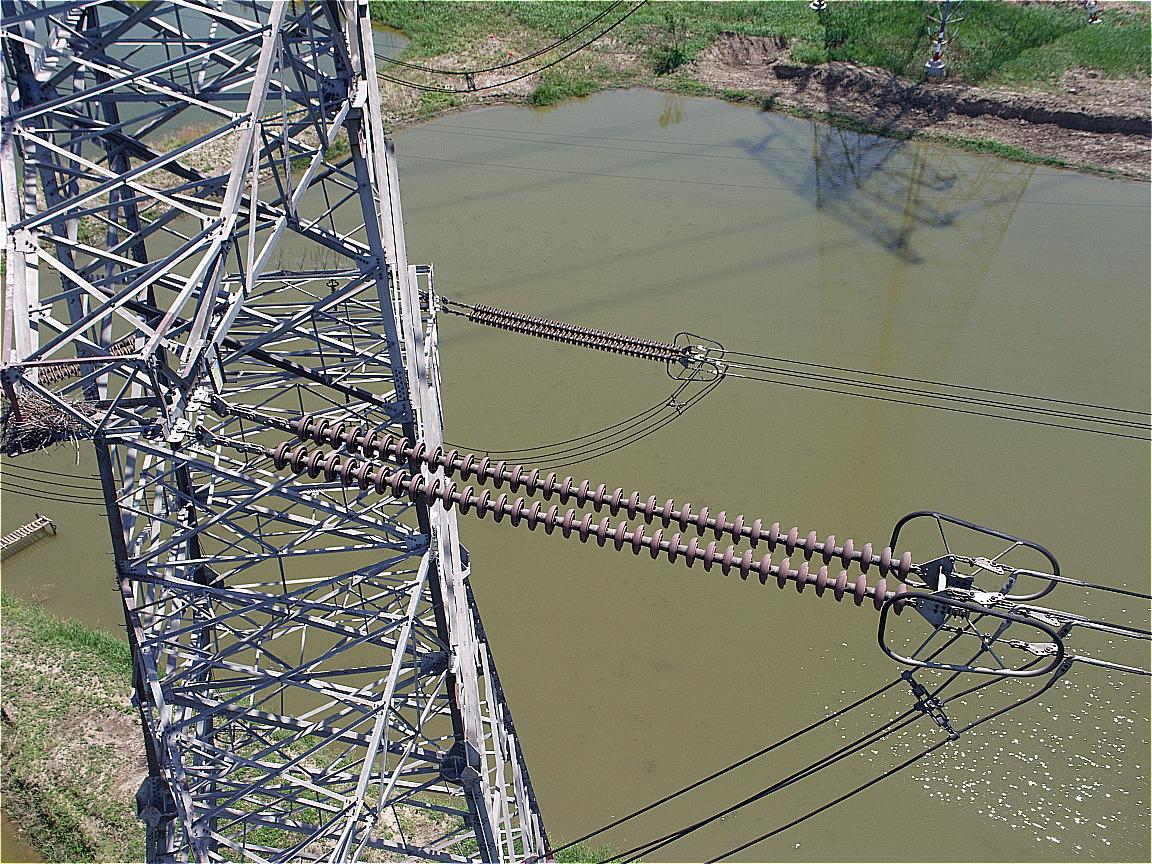insultor1: (258, 400, 918, 617), (458, 292, 690, 371)
